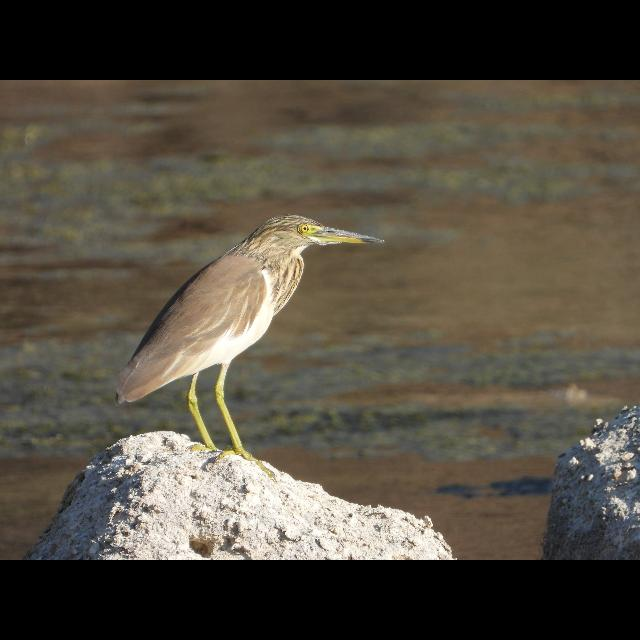heron: (120, 213, 384, 451)
